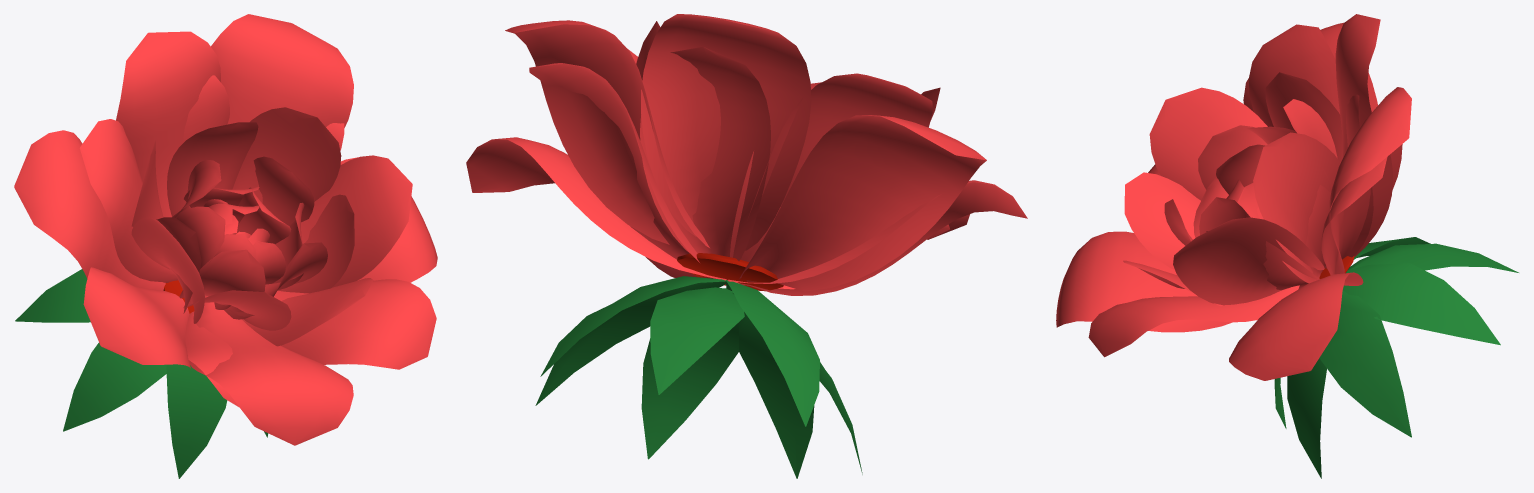
The model's file is flower.fbx.
3 renders of one model, left to right at view 1: azimuth 30°, elevation 25°; view 2: azimuth 150°, elevation 25°; view 3: azimuth 270°, elevation 25°, orthographic. The views are drawn at different scales.
Visible parts, largest first — view 1: Roses_Orange.001; view 2: Roses_Orange.001; view 3: Roses_Orange.001.
Boxes of the visible parts, x1,y1,x2,y2 form: Roses_Orange.001: (14,14,437,478); Roses_Orange.001: (466,14,1027,478); Roses_Orange.001: (1056,14,1518,478).
Bounding box in the file's own units: 145 × 139 × 140.
